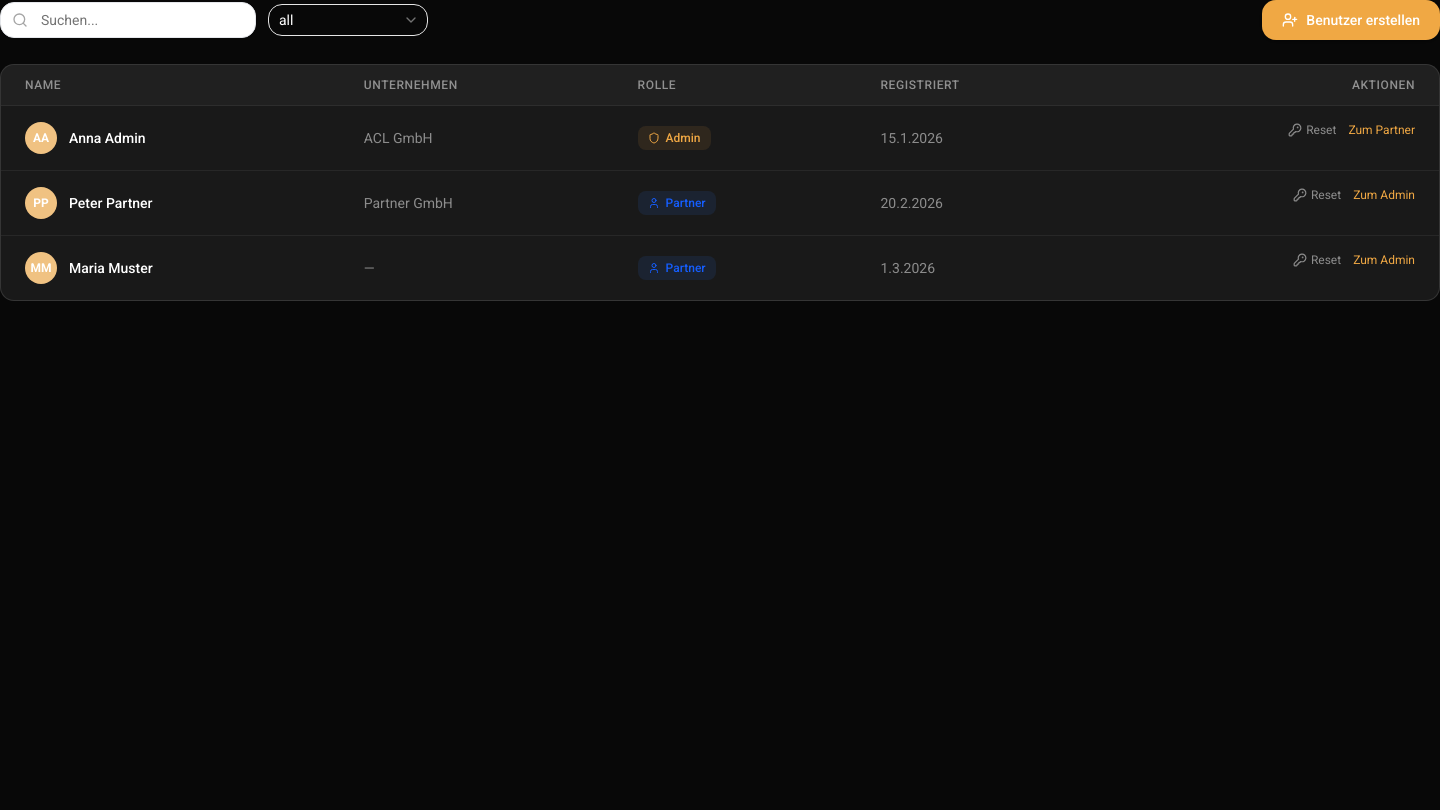
it: AdminUsersList › Rollenänderungs-Dialog › öffnet Bestätigungs-Dialog bei Rollenänderung
Click the button "Zum Partner" at (1382, 130), box x1=1348 y1=122 x2=1415 y2=138
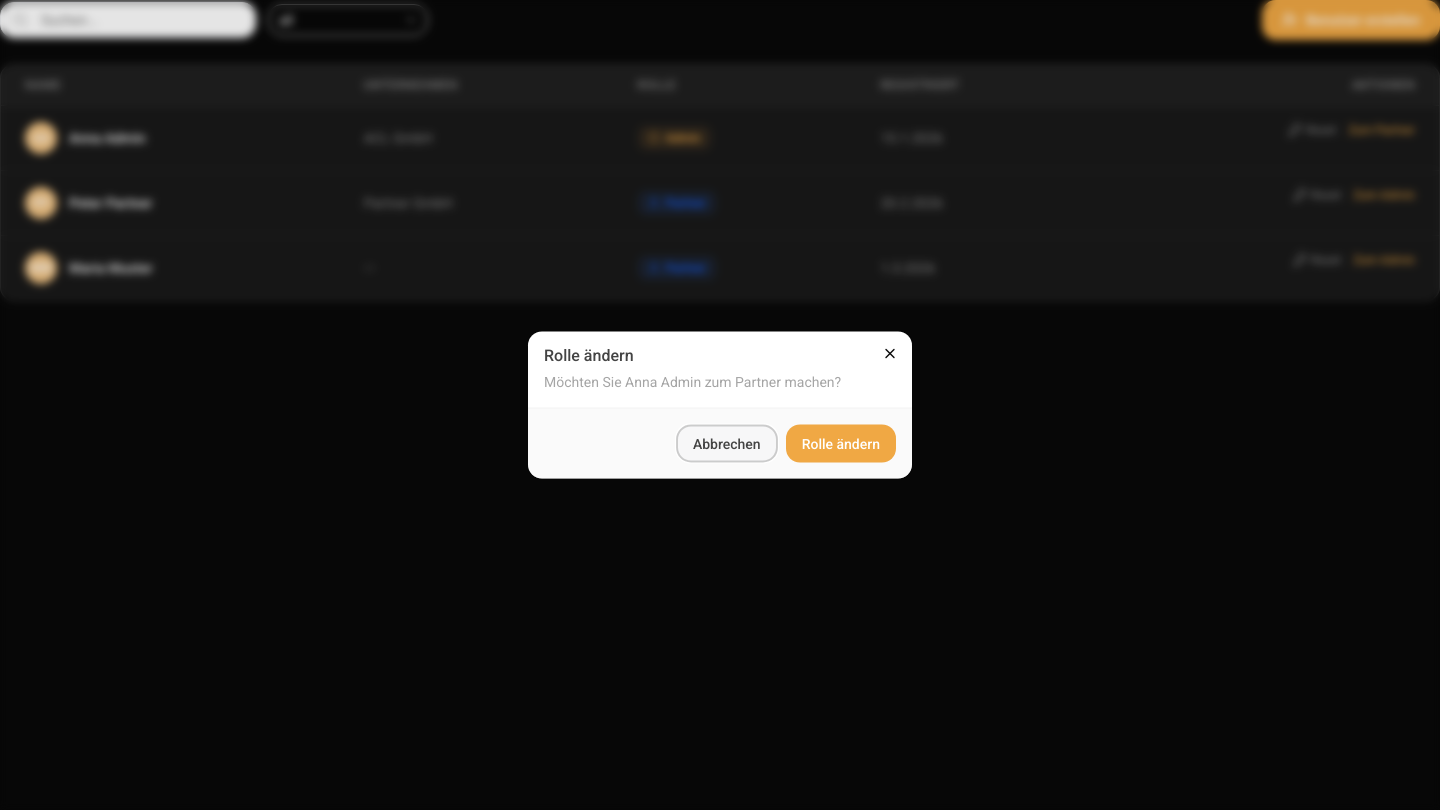
Result: the heading "Rolle ändern" is shown at x1=544 y1=346 x2=634 y2=364
